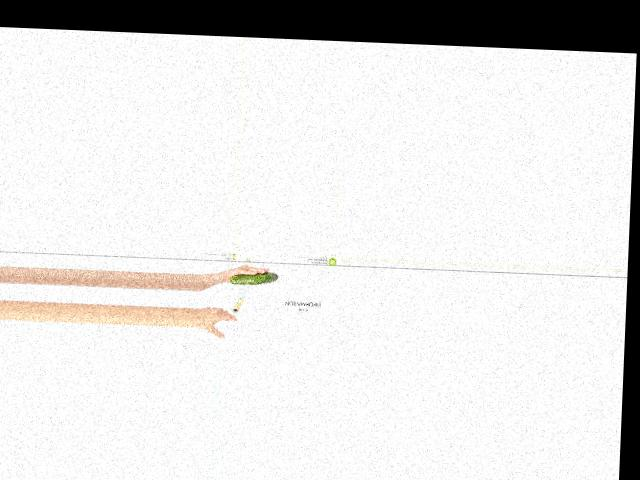cucumber: (229, 270, 278, 285)
